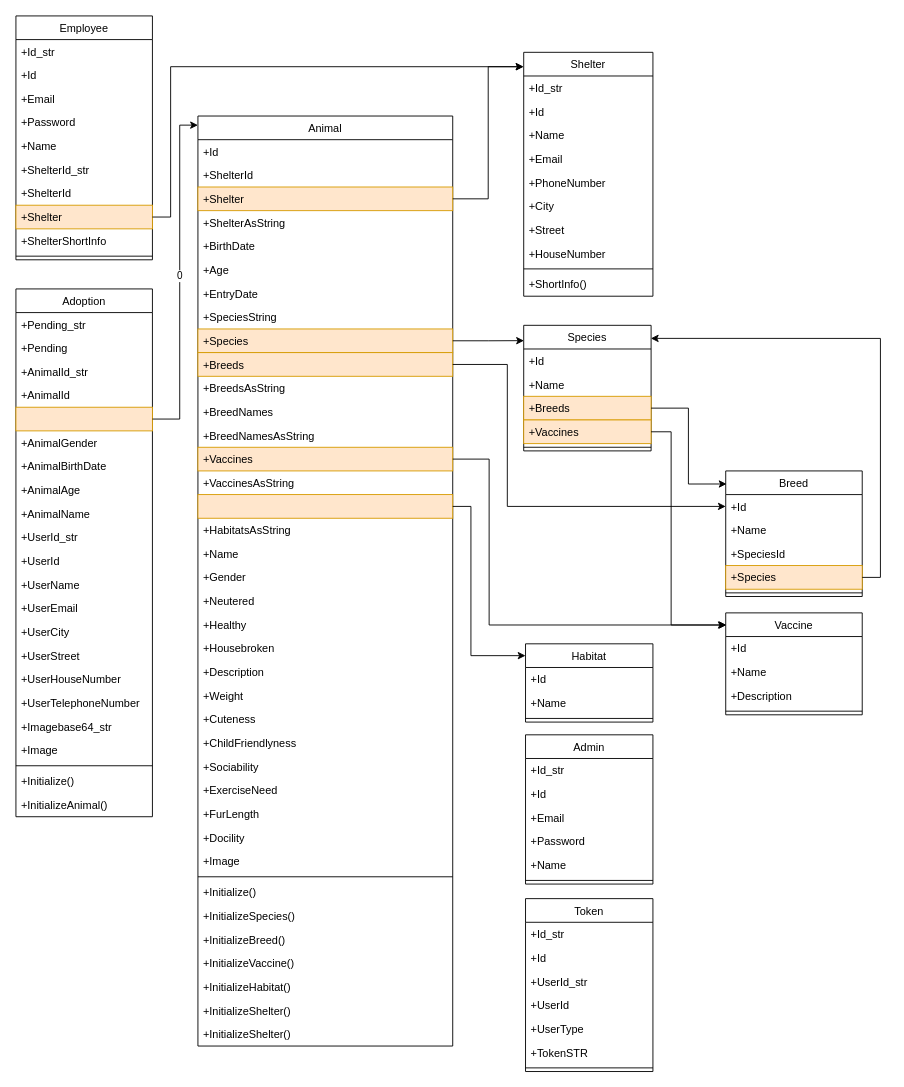
Some shapes in this 904 by 1087 pixel diagram are drawn without their labels. The centre of each missing label's shape, as x and y in pixels:
+Animal: [83,418]
+Habitats: [325,506]
